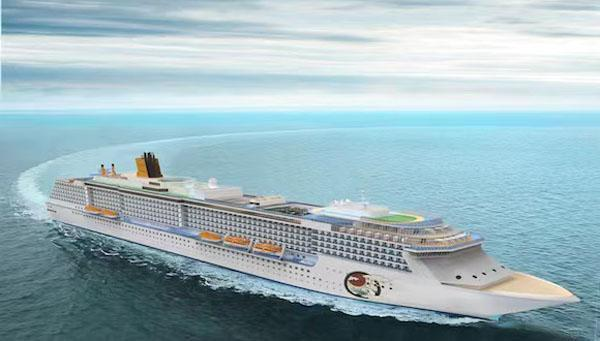Ship: (45, 154, 587, 326)
